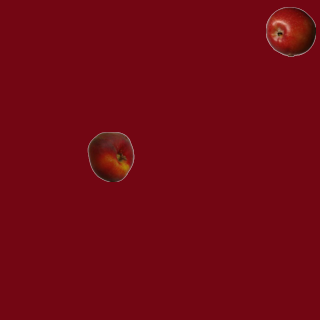Apple Braeburn: (265, 6, 315, 56)
Nectarine Flat: (85, 131, 135, 181)
